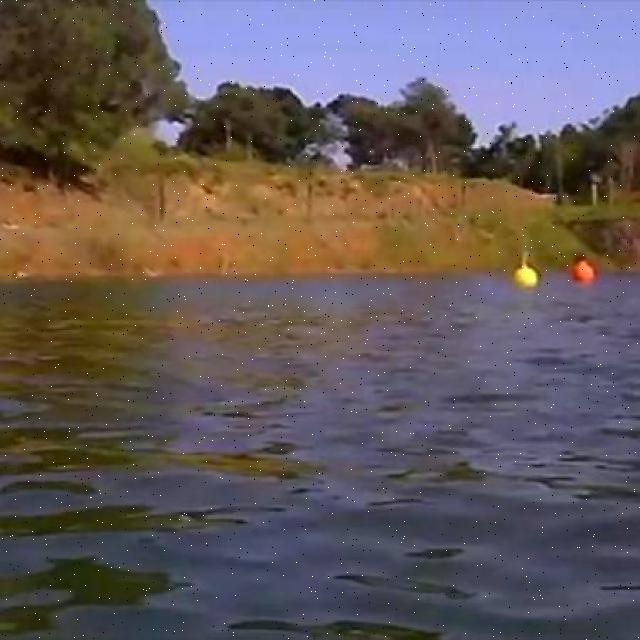buoy: (573, 259, 597, 283), (518, 262, 539, 288)
